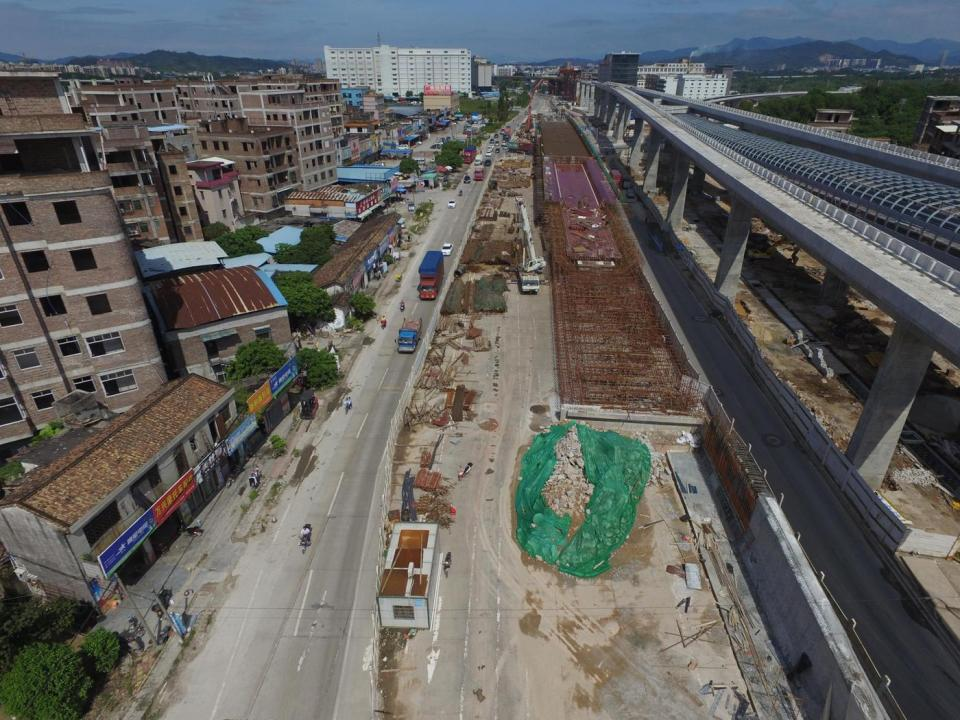car: (441, 242, 453, 256), (396, 216, 404, 228), (446, 200, 456, 208), (376, 162, 386, 169), (463, 175, 470, 184), (484, 158, 491, 166), (411, 140, 422, 145), (430, 144, 440, 149), (488, 145, 494, 151), (486, 150, 491, 157), (495, 147, 500, 153), (494, 141, 498, 146), (494, 133, 498, 138), (490, 138, 494, 143), (504, 146, 508, 150), (525, 111, 527, 115)
truck: (416, 250, 444, 300), (394, 318, 422, 352), (520, 272, 539, 292), (463, 145, 476, 164), (609, 168, 621, 188), (473, 166, 486, 180), (621, 177, 630, 188), (474, 154, 482, 165), (626, 189, 634, 199)
van: (412, 158, 425, 166), (396, 144, 409, 151), (372, 162, 386, 168), (430, 157, 441, 163), (408, 201, 414, 210)
